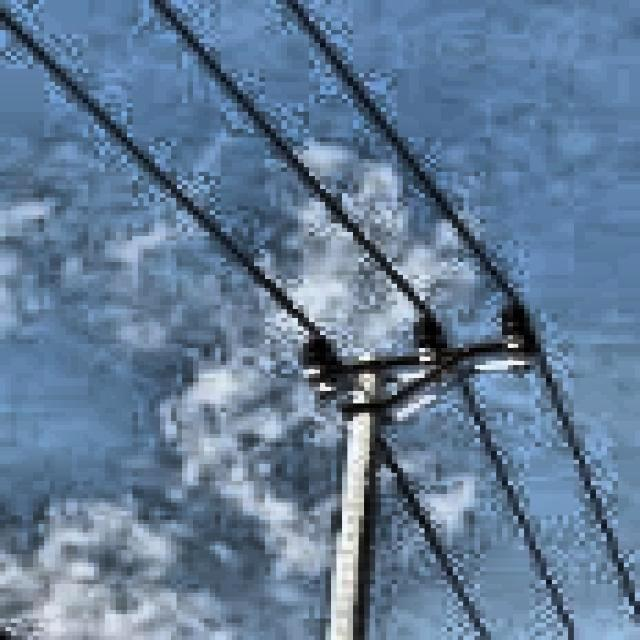crossarm: (300, 342, 537, 408)
pole: (331, 363, 390, 640)
wire: (0, 3, 501, 640), (151, 0, 574, 640), (285, 2, 639, 620)
